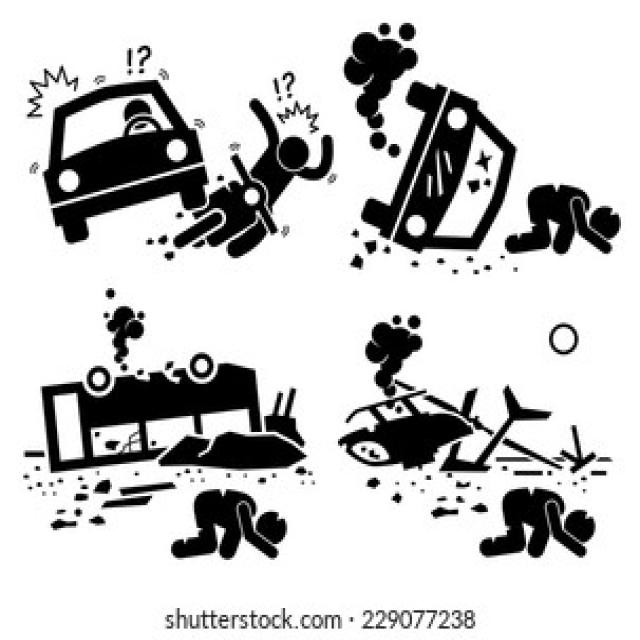Accident: (32, 333, 308, 566), (30, 68, 338, 263), (334, 362, 618, 568), (361, 74, 623, 276)
